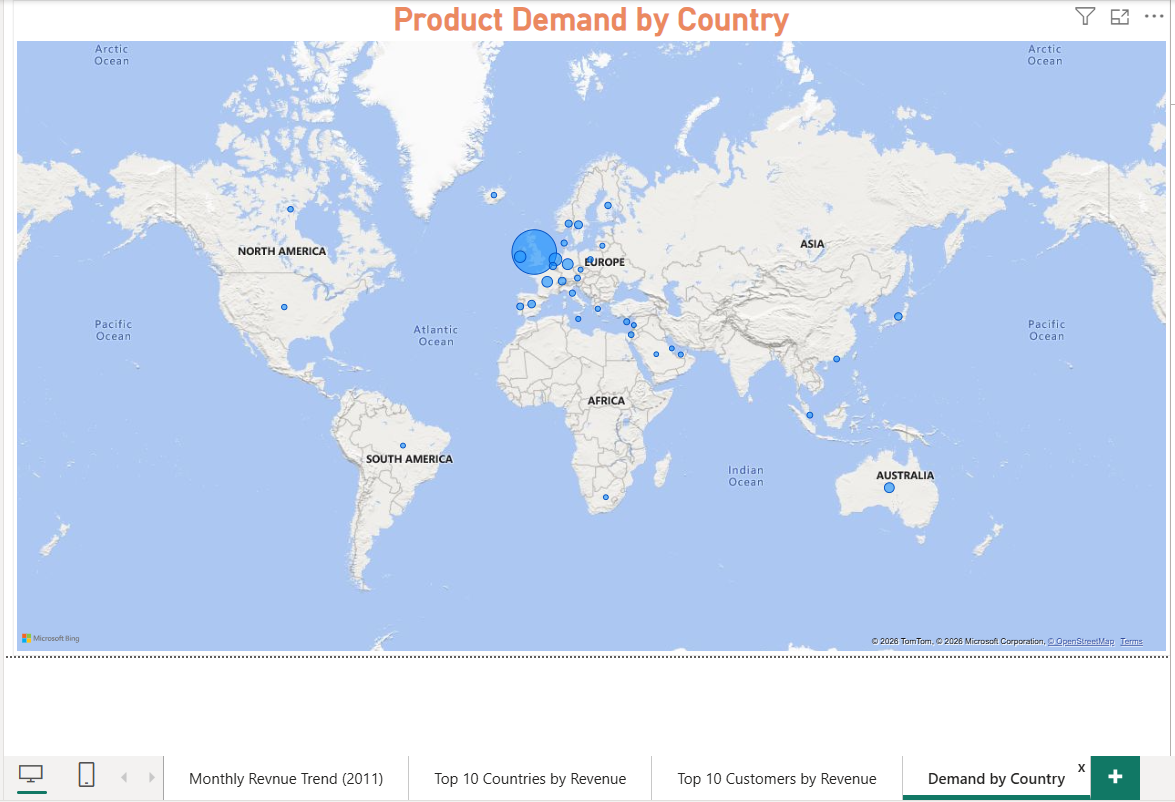

Layout of this report page (visuals, bound fields, positions):
{"tool":"powerbi","page":{"name":"Demand by Country","canvas":[1280,720],"ordinal":3},"visuals":[{"type":"map","title":"Product Demand by Country","fields":{"Category":["Online Retail.Country"],"Size":["Sum(Online Retail.Quantity)"]},"box":[9.6,0,1270.7,720.4],"z":0}]}

Visuals, with their boxes in screenshot pixels (x1, y1, x2, y2):
"Product Demand by Country" map: 15:0:1165:652
